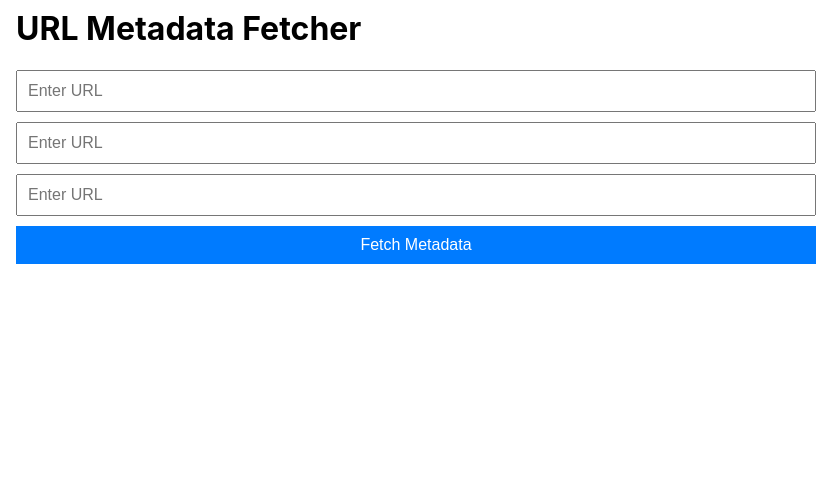
Test: fetches and displays metadata
The width and height of the screenshot is (833, 504).
In the 1st field with placeholder "Enter URL": (416, 91) [16, 70, 816, 112], type "https://example.com"
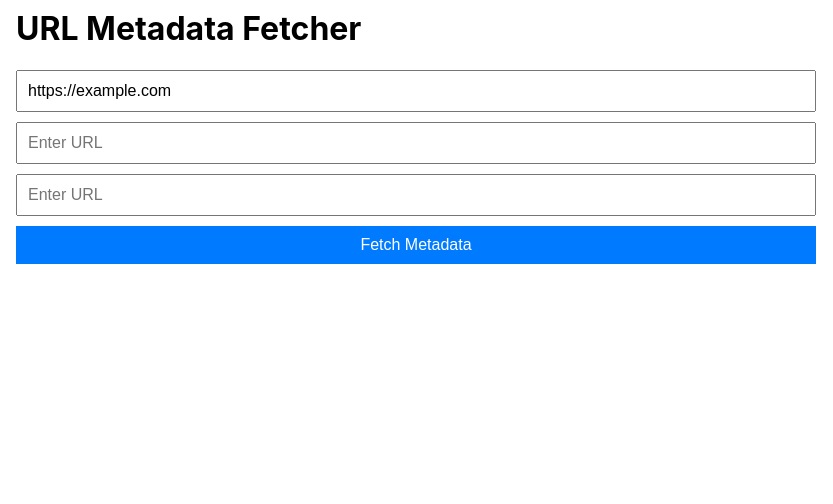
In the 1st field with placeholder "Enter URL": (416, 143) [16, 122, 816, 164], type "https://example.org"
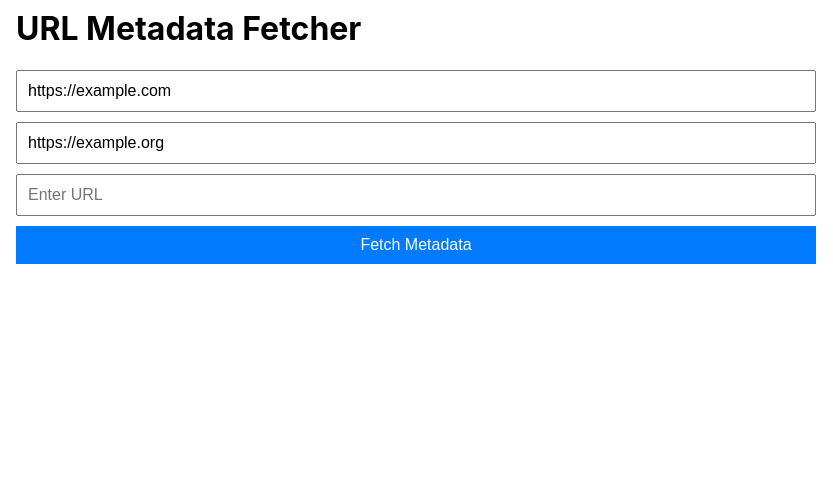
In the field with placeholder "Enter URL": (416, 195) [16, 174, 816, 216], type "https://example.net"
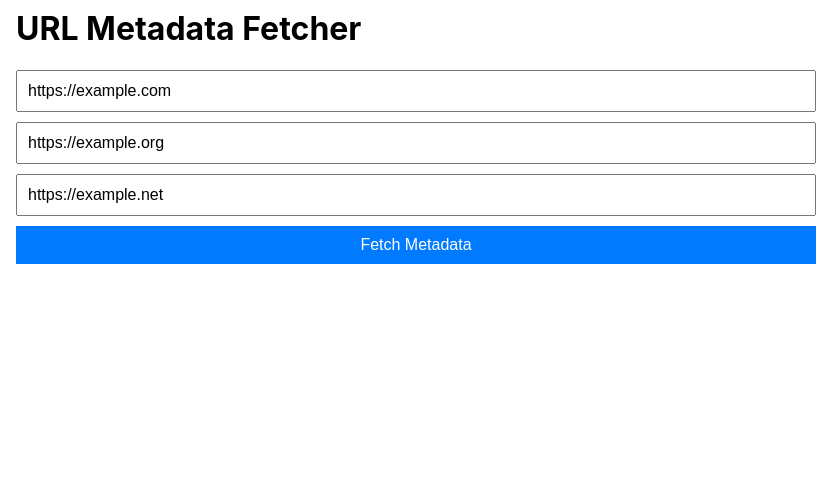
Click the button "Fetch Metadata": (416, 245) [16, 226, 816, 264]
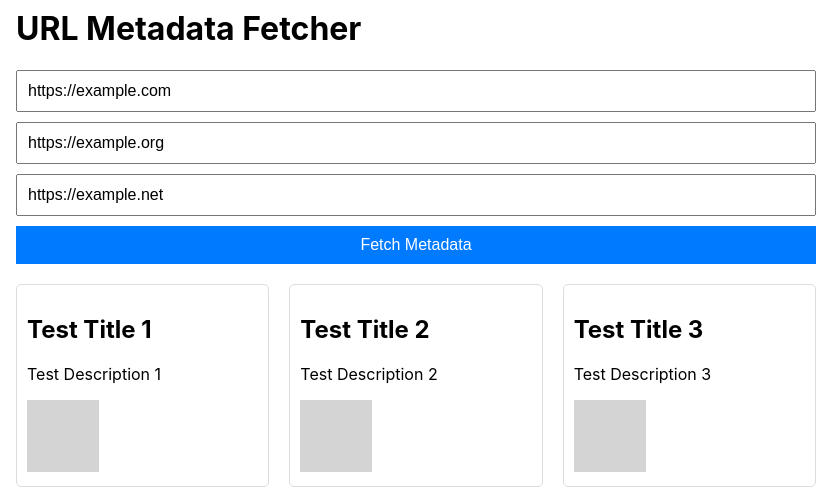
Expected: the heading "Test Title 1" is shown, [27, 315, 152, 344]
Expected: the heading "Test Title 2" is shown, [300, 315, 430, 344]
Expected: the heading "Test Title 3" is shown, [574, 315, 703, 344]
